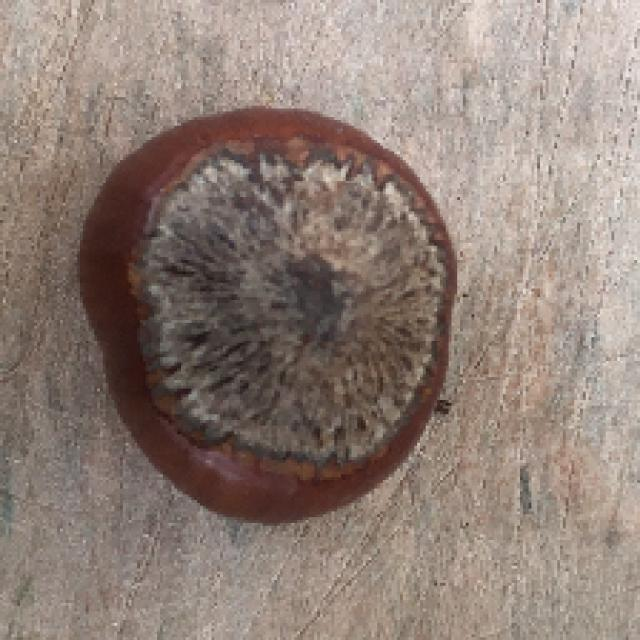damagedHazelnut: (68, 100, 466, 529)
